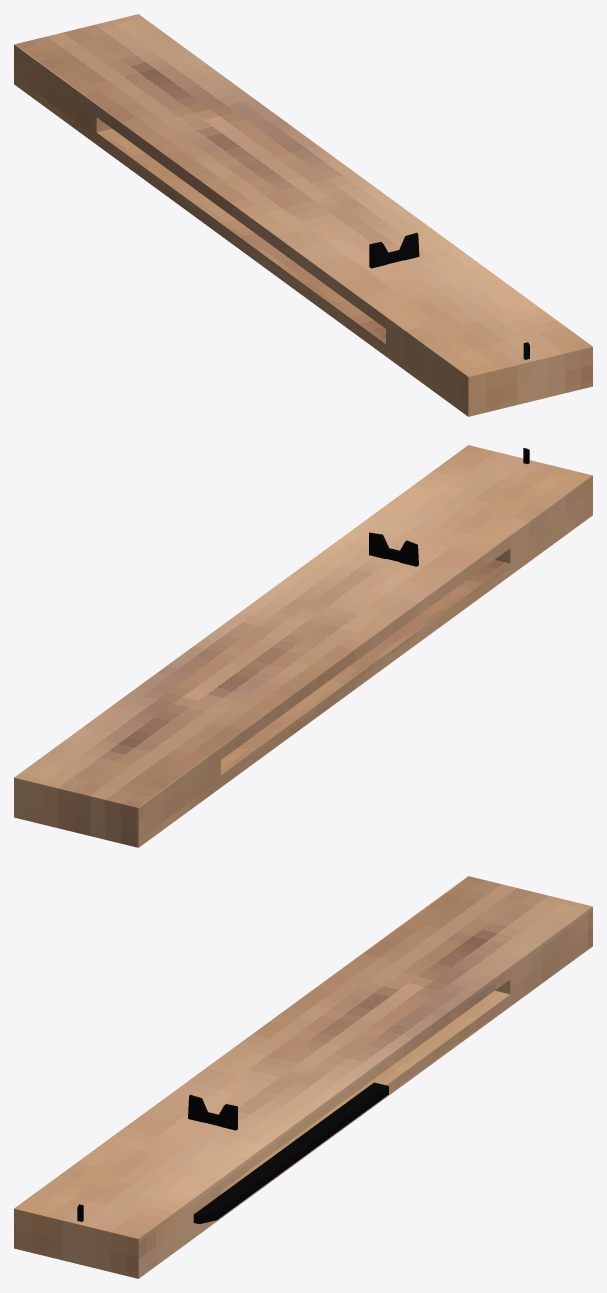
Rendered from HCMagLongbow.fbx.
The picture shows the model from 3 angles, top to bottom: view 1: azimuth 30°, elevation 25°; view 2: azimuth 150°, elevation 25°; view 3: azimuth 330°, elevation 25°; orthographic projection.
Visible parts, largest first — view 1: Mag; view 2: Mag; view 3: Mag.
Part boxes in pixels (box(x1,y1,x2,y2)): Mag: box(14, 14, 592, 416); Mag: box(14, 445, 592, 847); Mag: box(14, 876, 592, 1278).
Size of the model in its own units: 0.0427 by 0.2408 by 0.0183.
